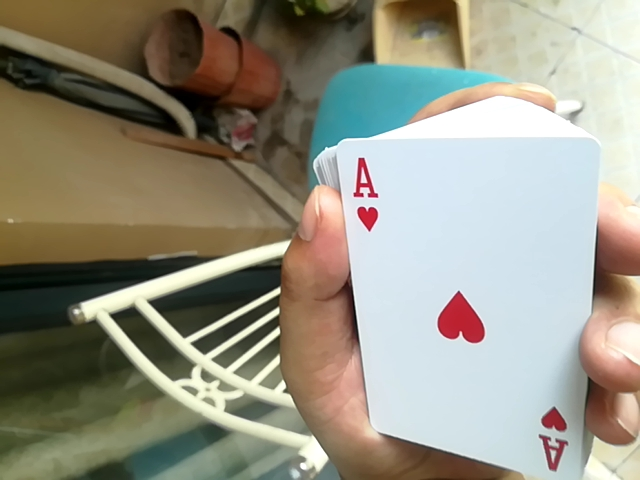hx a: (322, 140, 605, 480)
